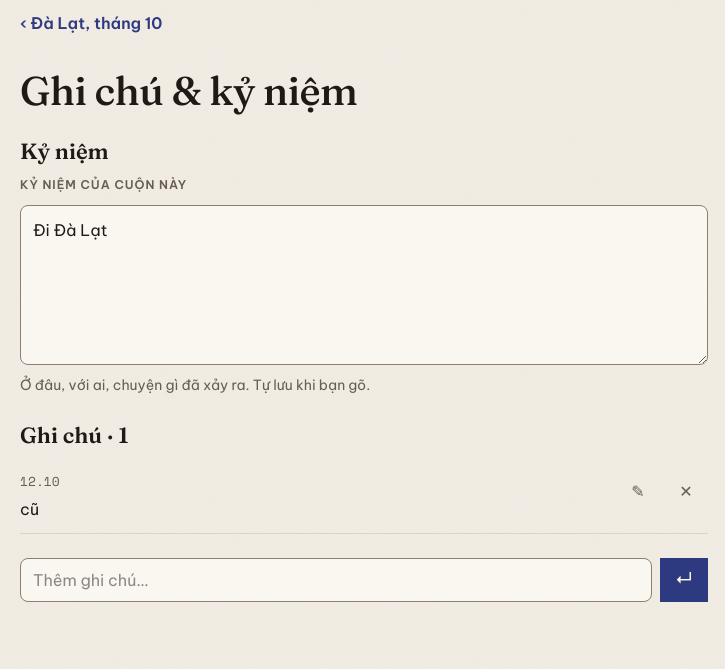
Test: NotesMemory (NOTE-1, NotesMemory board) › never autosaves an emptied note, so retyping keeps saving (review #14)
Click the button named "Sửa ghi chú: cũ".
click(638, 491)  # box [616, 469, 660, 513]
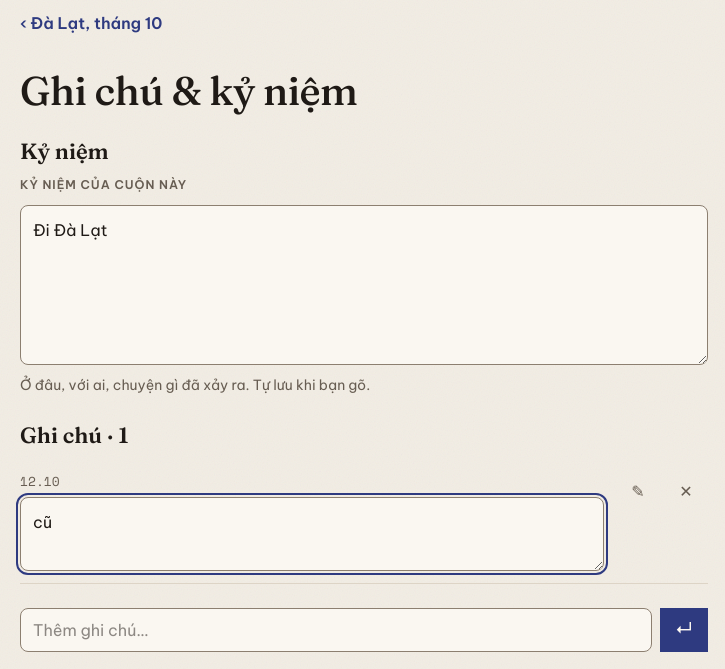
Replace the text in the text box named "Sửa ghi chú" with "mới" at (312, 534), box [20, 497, 604, 571]
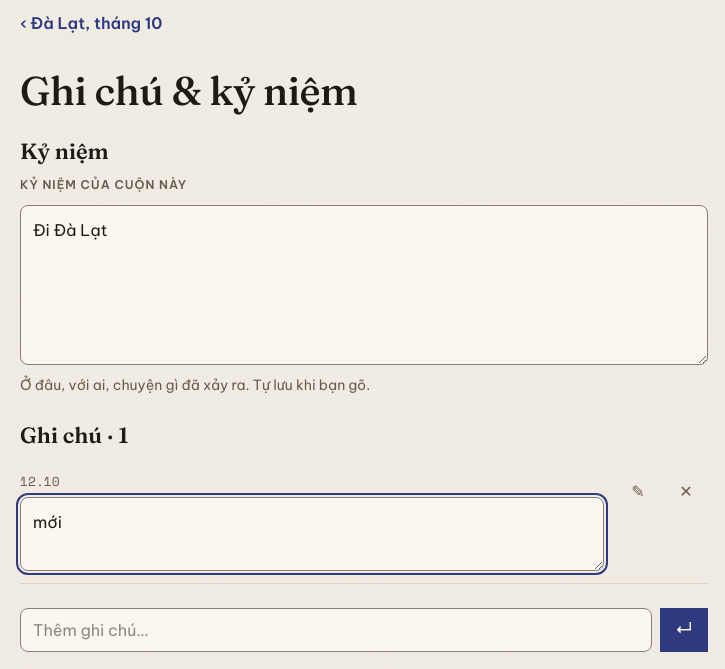
Press Tab
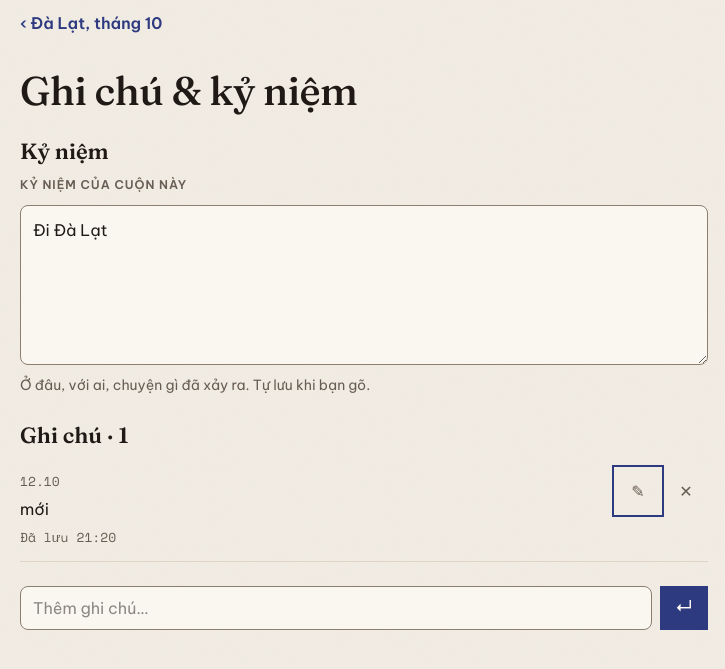
Check: the text "mới" is shown, box [20, 499, 49, 519]
